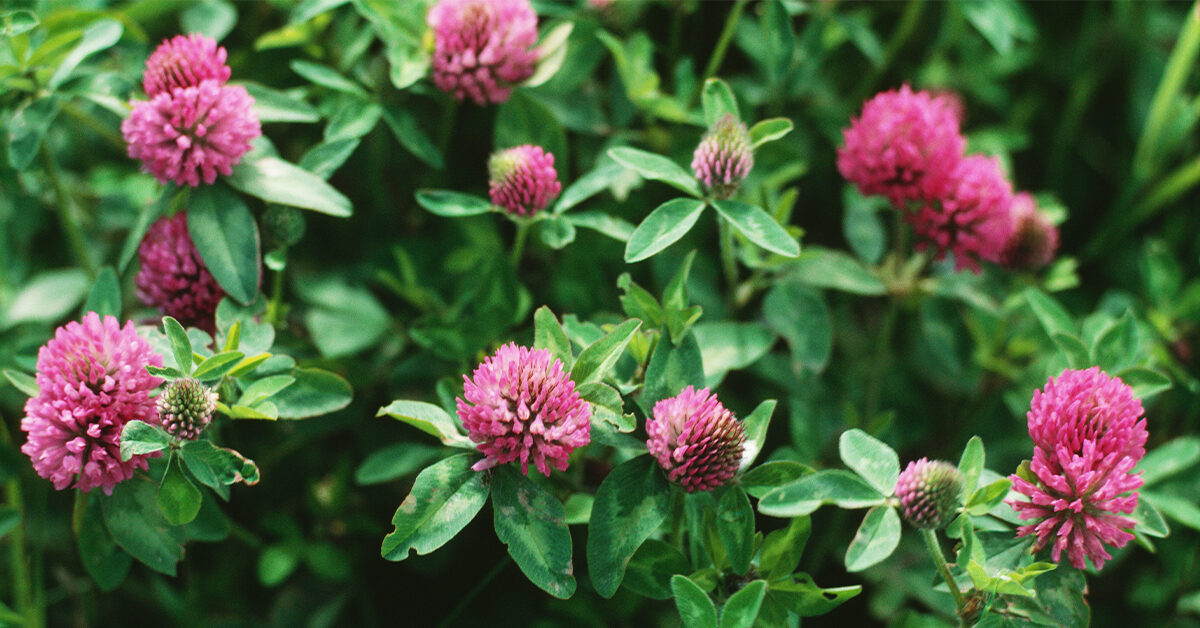clover blossom purple: (453, 337, 593, 479), (14, 369, 165, 500), (1007, 437, 1142, 575), (831, 80, 967, 204), (115, 79, 262, 185), (904, 148, 1015, 273), (421, 1, 542, 108), (641, 382, 749, 499), (32, 308, 163, 400), (1027, 363, 1149, 459), (484, 139, 563, 218), (894, 451, 967, 535), (689, 110, 756, 200), (138, 32, 234, 90)
